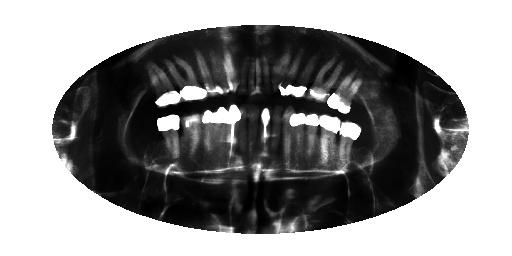i10decay: (233, 105, 247, 155)
i11healthy: (226, 101, 242, 163)
i12loss: (214, 103, 228, 154)
i13healthy: (200, 106, 213, 155)
i14healthy: (179, 111, 203, 157)
i15healthy: (150, 111, 184, 158)
i2healthy: (337, 117, 362, 167)
i3healthy: (318, 112, 340, 167)
i4healthy: (303, 111, 320, 159)
i5healthy: (287, 111, 304, 161)
i6healthy: (281, 103, 295, 163)
i7decay: (270, 103, 284, 161)
i8loss: (259, 103, 271, 157)
i9decay: (246, 101, 259, 158)
u10decay: (237, 42, 249, 95)
u11healthy: (221, 40, 241, 94)
u12decay: (209, 43, 228, 94)
u13healthy: (194, 43, 217, 95)
u14healthy: (162, 50, 209, 102)
u15healthy: (142, 58, 182, 109)
u2healthy: (326, 68, 366, 117)
u3healthy: (308, 53, 347, 108)
u4decay: (291, 50, 323, 101)
u5decay: (278, 51, 304, 94)
u6decay: (272, 45, 288, 95)
u7decay: (260, 48, 272, 95)
u8decay: (254, 41, 262, 96)
u9decay: (247, 41, 255, 96)
